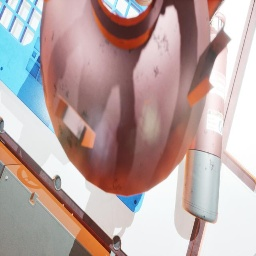NitrogenTank ,: (39, 0, 233, 197), (182, 12, 228, 224), (207, 0, 226, 25), (134, 0, 152, 6)
